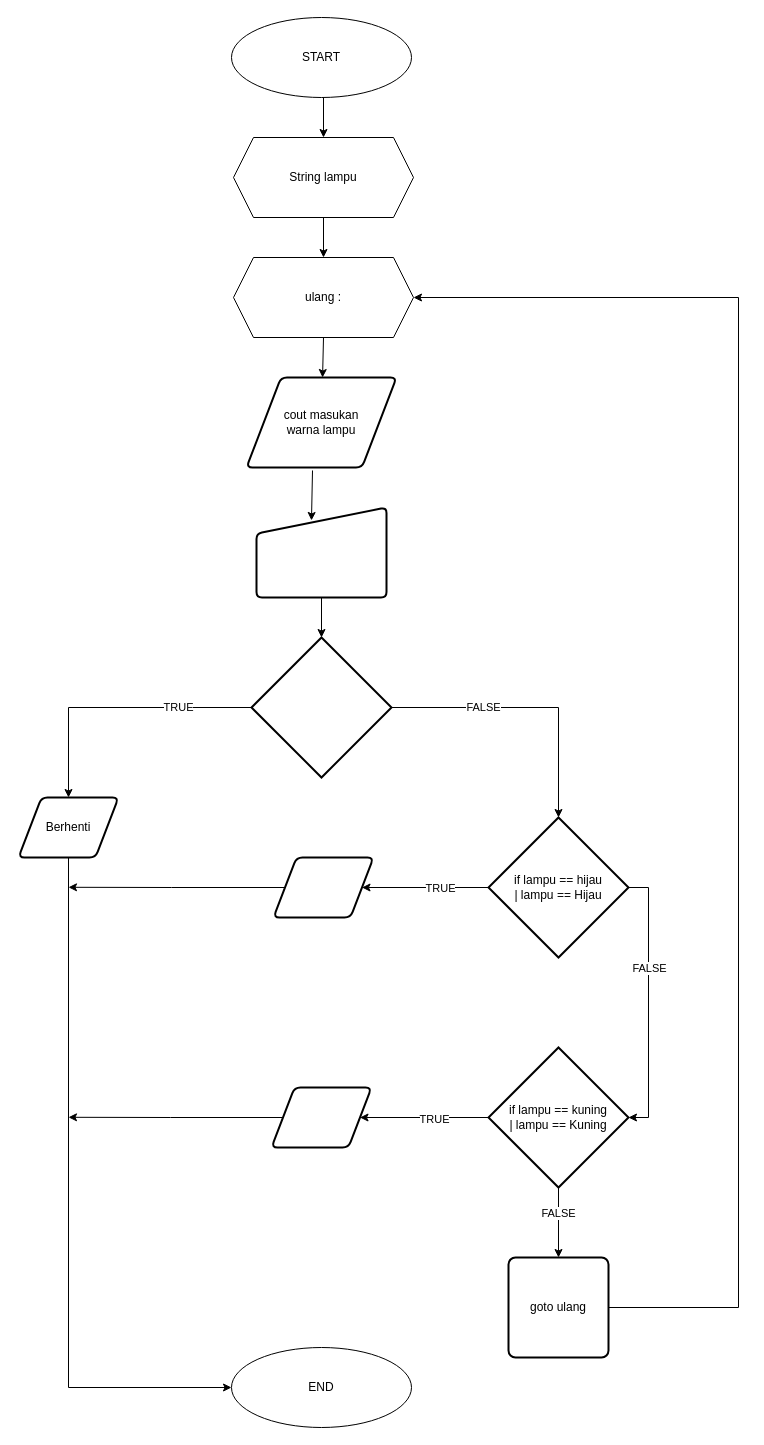
Some shapes in this 764 by 1445 pixel diagram are drawn without their labels. The centre of each missing label's shape, as x and y in pixels:
cin lampu: [321,552]
if lampu == merah | lampu == Merah: [321,707]
Jalan: [323,887]
Siap - Siap: [321,1117]
